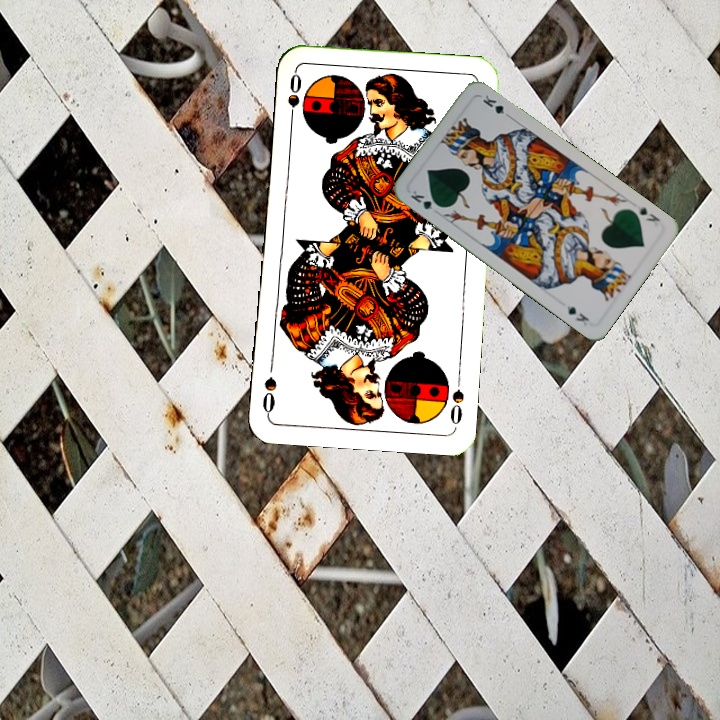GK: (406, 186, 444, 214), (633, 202, 662, 224)
SO: (283, 69, 304, 128), (446, 370, 467, 429)
